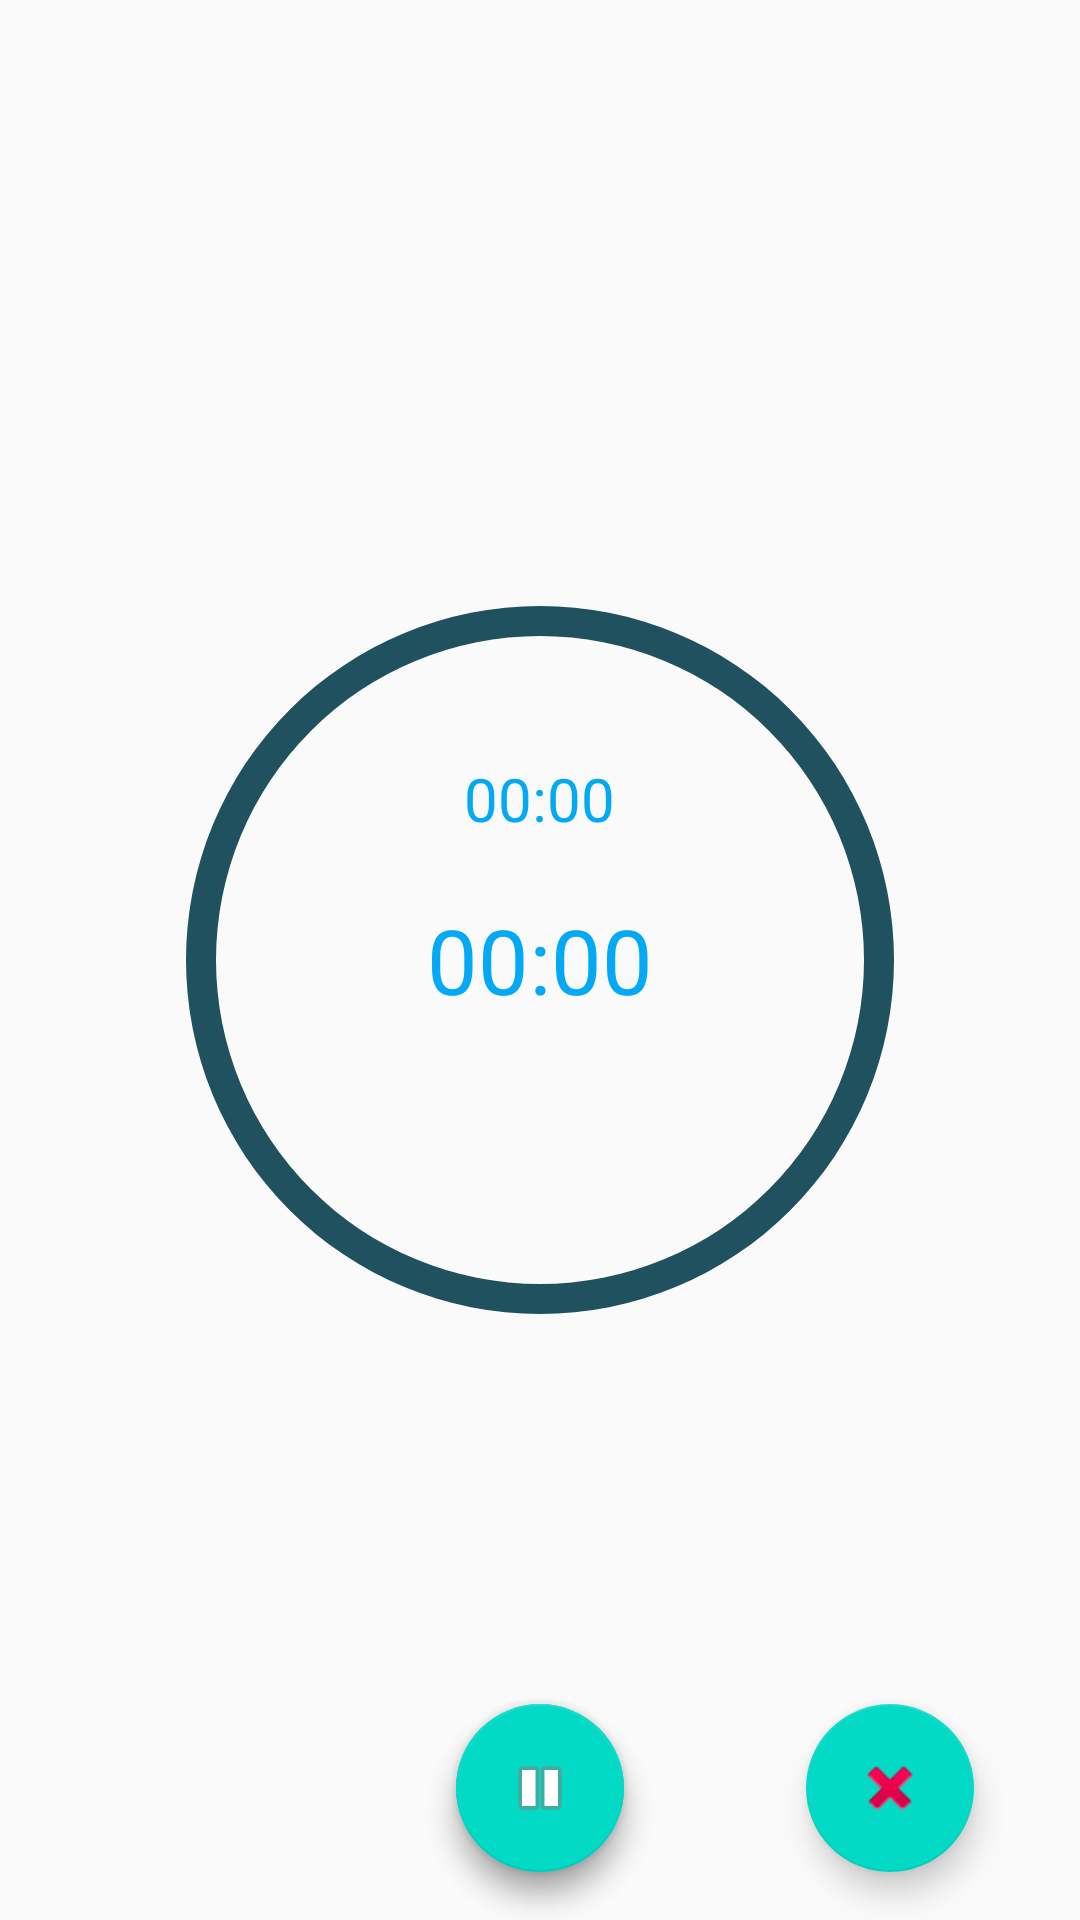

Where icons sit on this 1080x1920 app screen, as [left=x1, top=y1, right=x2, bottom=y2]:
Botón stop: [left=806, top=1704, right=974, bottom=1872]
